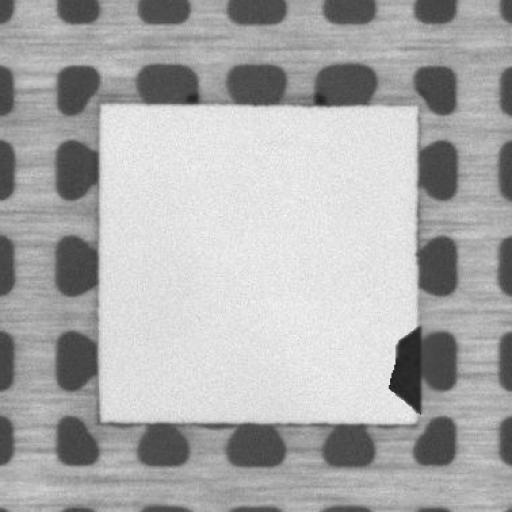DIE_BROKEN: (385, 323, 421, 412)
